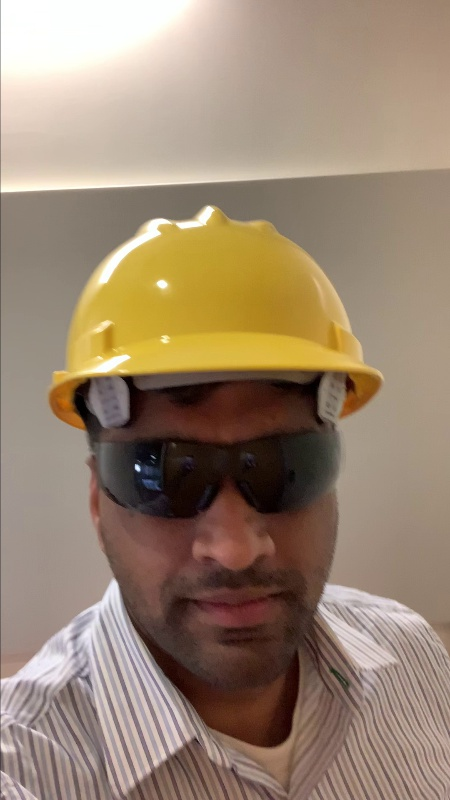glasses: (91, 434, 350, 511)
helmet: (43, 207, 383, 422)
